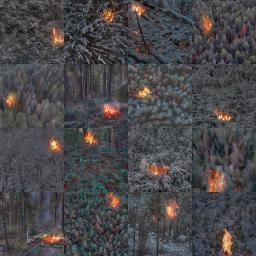Small fire: (206, 165, 237, 196), (37, 221, 69, 248), (157, 200, 191, 220), (211, 107, 239, 131), (103, 190, 129, 215), (212, 228, 235, 256), (100, 101, 126, 122), (128, 0, 151, 20), (147, 161, 174, 177), (134, 77, 152, 99), (45, 135, 62, 158), (3, 86, 16, 114), (98, 3, 115, 24), (82, 129, 99, 149), (47, 22, 63, 43), (199, 11, 211, 34)
